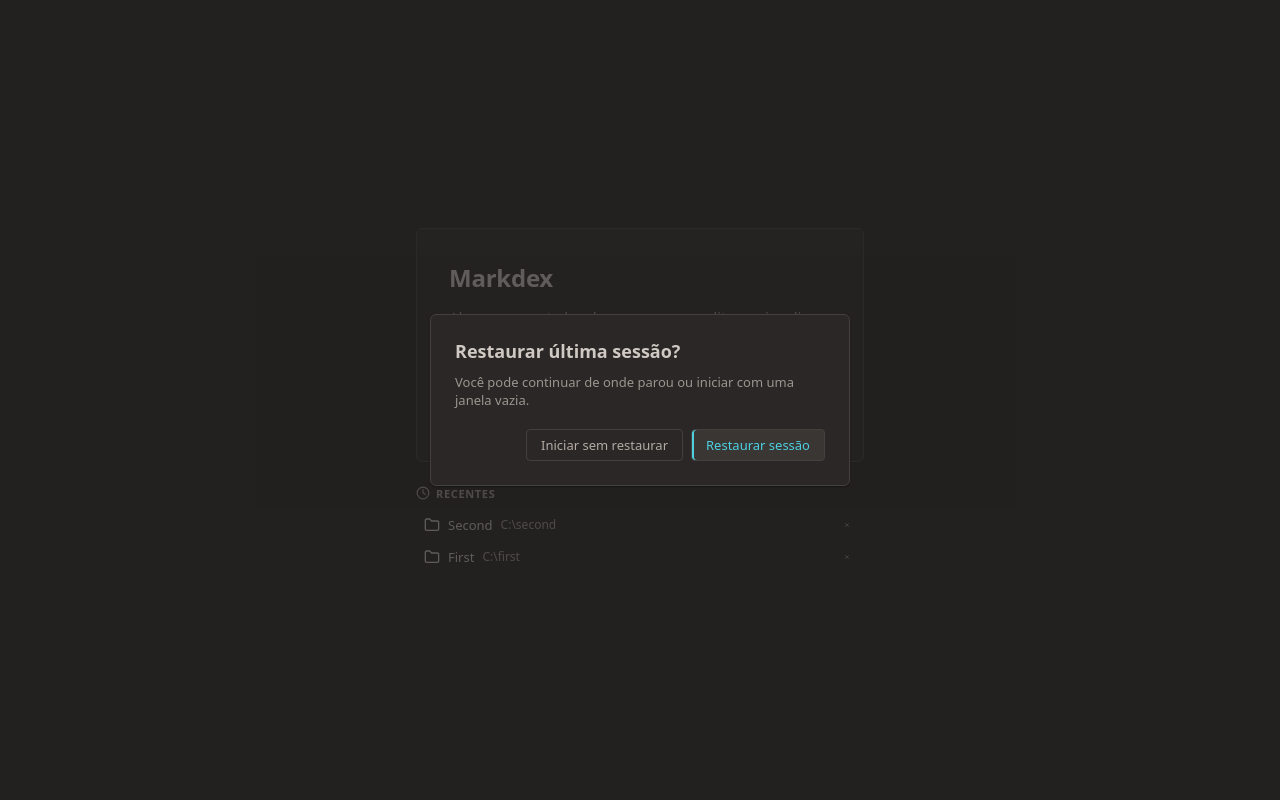
Scenario: App › asks whether to restore the saved session and preserves it when starting empty
The image size is (1280, 800).
Expected: the dialog "Restaurar última sessão?" is shown, [430,314,850,486]
Click the button "Iniciar sem restaurar" at (604, 445), box [526,429,683,461]
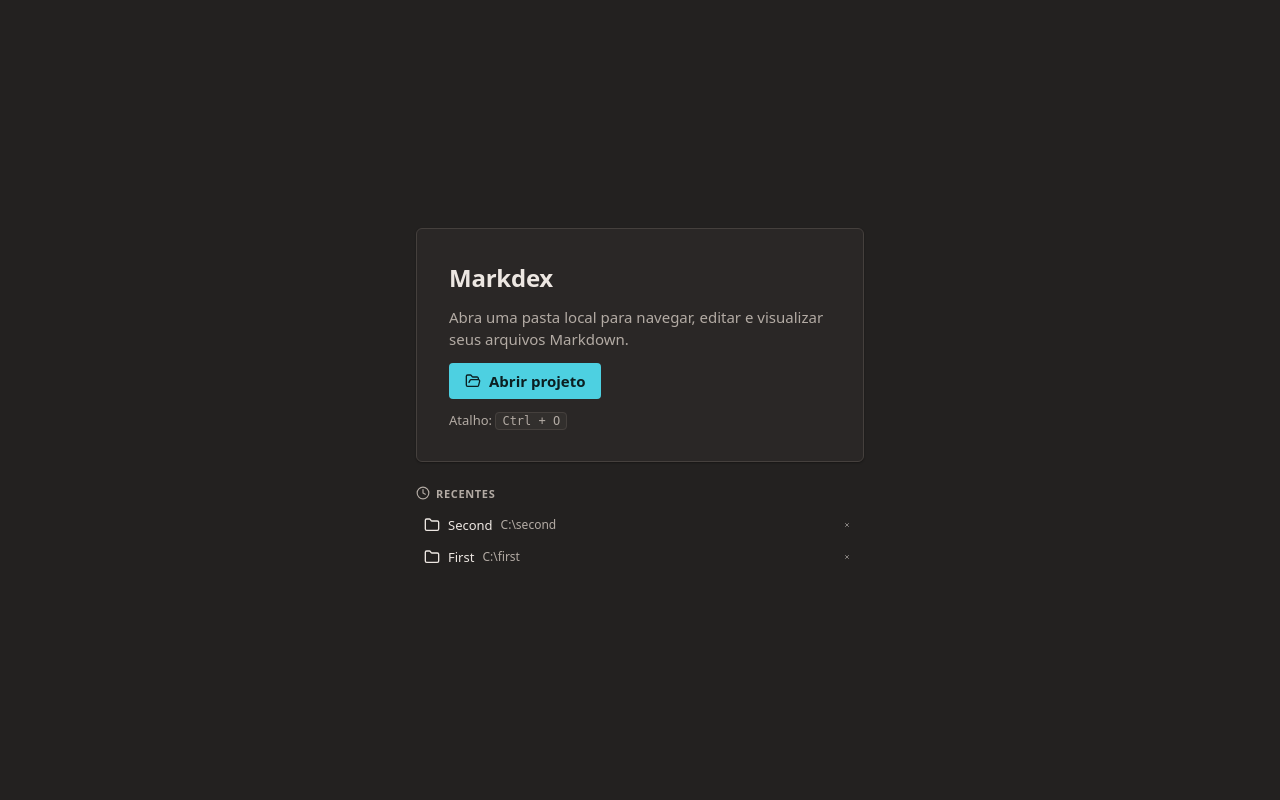
Now the heading "Restaurar última sessão?" is gone
